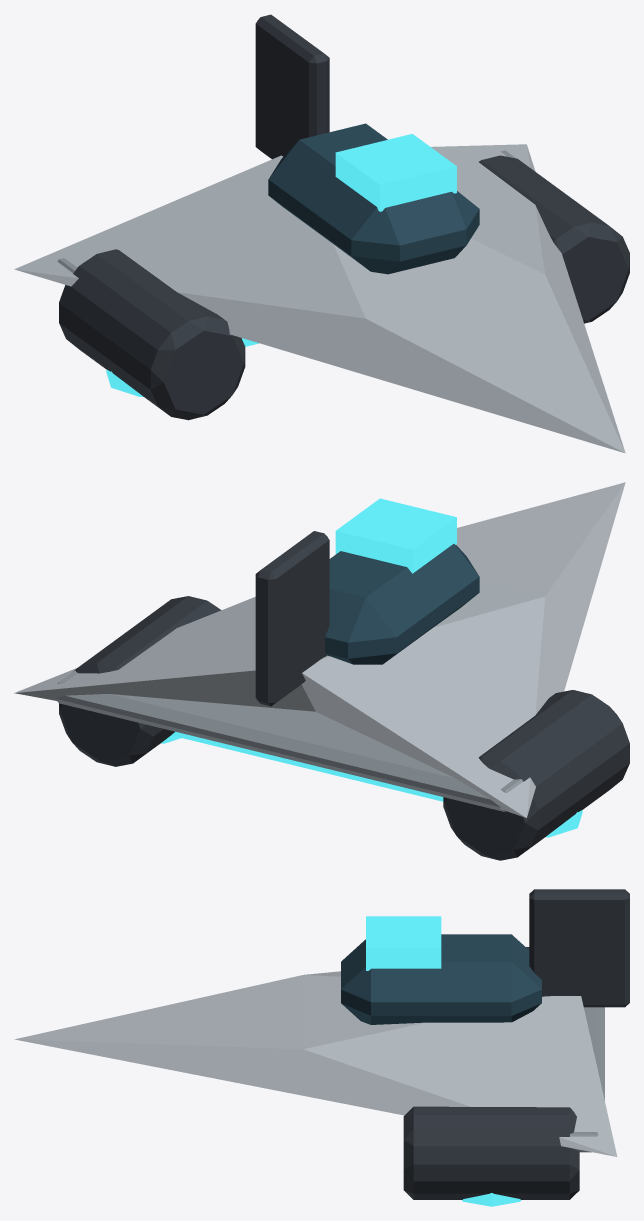
The model's file is exo-scout.glb.
The picture shows the model from 3 angles, top to bottom: view 1: azimuth 30°, elevation 25°; view 2: azimuth 150°, elevation 25°; view 3: azimuth 270°, elevation 25°; orthographic projection. The views are drawn at different scales.
Visible parts, largest first — view 1: body; view 2: body; view 3: body.
Boxes of the visible parts, left/top/right/bottom form: body: left=14, top=14, right=629, bottom=453; body: left=14, top=482, right=629, bottom=860; body: left=14, top=889, right=629, bottom=1206.
Bounding box in the file's own units: 2 × 0.9847 × 2.45.
